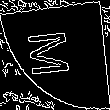M_E: (29, 29, 81, 81)
